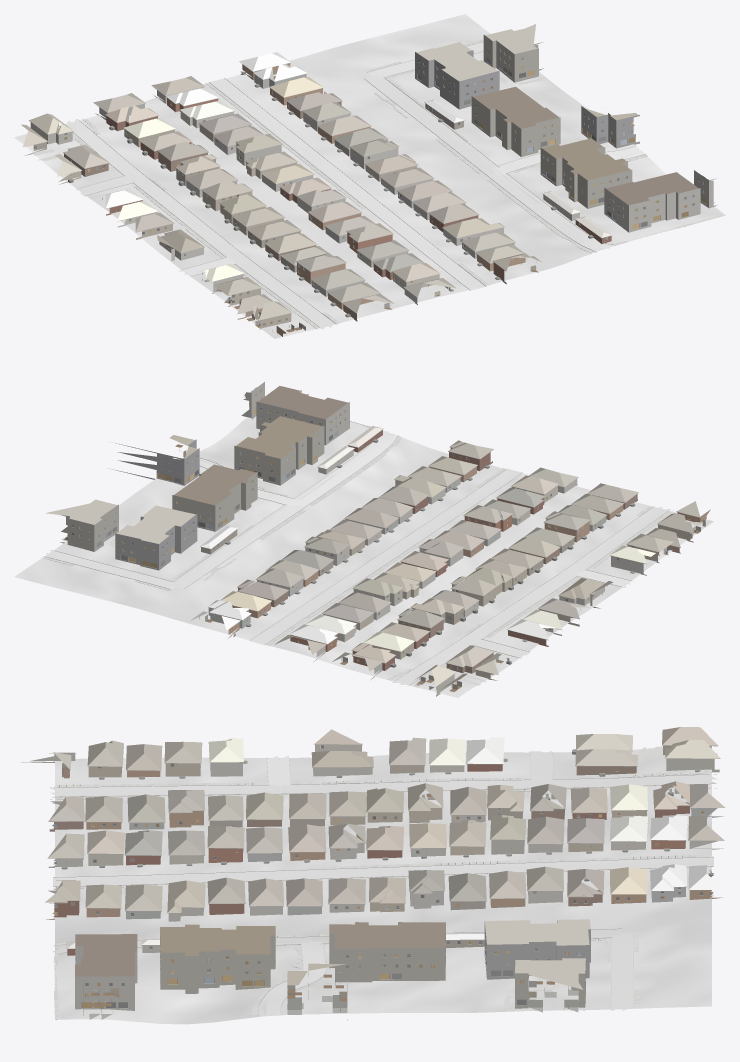
3 renders of one model, top to bottom at view 1: azimuth 30°, elevation 25°; view 2: azimuth 150°, elevation 25°; view 3: azimuth 270°, elevation 25°, orthographic. The views are drawn at different scales.
Parts seen in each view (by area): view 1: ground, roof, concrete, wall_com, wall, roof_flat, detail, walk, wall_stucco, wall_stone, curb, glass_lit (+1 smaller); view 2: ground, roof, concrete, wall_com, roof_flat, wall, detail, walk, wall_stone, curb, wall_stucco, glass_lit (+2 smaller); view 3: ground, roof, concrete, wall_com, roof_flat, wall, wall_stucco, wall_stone, walk, detail, curb, room (+2 smaller).
Boxes of the visible parts, <box> form: ground: <box>14,14,725,338</box>; roof: <box>21,52,612,320</box>; concrete: <box>66,42,644,329</box>; wall_com: <box>415,35,716,232</box>; wall: <box>24,63,611,336</box>; roof_flat: <box>416,24,698,205</box>; detail: <box>29,49,705,335</box>; walk: <box>32,39,725,328</box>; wall_stucco: <box>30,74,514,296</box>; wall_stone: <box>154,87,579,304</box>; curb: <box>59,41,646,328</box>; glass_lit: <box>64,49,706,323</box>; ground: <box>14,416,713,697</box>; roof: <box>190,426,702,688</box>; concrete: <box>46,431,670,684</box>; wall_com: <box>60,381,349,570</box>; roof_flat: <box>45,386,347,543</box>; wall: <box>201,430,710,673</box>; detail: <box>71,390,710,688</box>; walk: <box>43,420,671,686</box>; wall_stone: <box>257,449,646,662</box>; curb: <box>44,421,671,686</box>; wall_stucco: <box>208,477,705,696</box>; glass_lit: <box>80,390,689,667</box>; ground: <box>55,746,711,1024</box>; roof: <box>45,727,725,948</box>; concrete: <box>50,751,717,1016</box>; wall_com: <box>75,921,590,1020</box>; roof_flat: <box>75,919,590,989</box>; wall: <box>46,745,722,955</box>; wall_stucco: <box>21,743,723,919</box>; wall_stone: <box>48,762,723,952</box>; walk: <box>53,746,713,1019</box>; detail: <box>48,743,720,1013</box>; curb: <box>50,751,716,1016</box>; room: <box>52,763,703,1019</box>.
Size of the model in its own units: 285 by 26.11 by 271.
